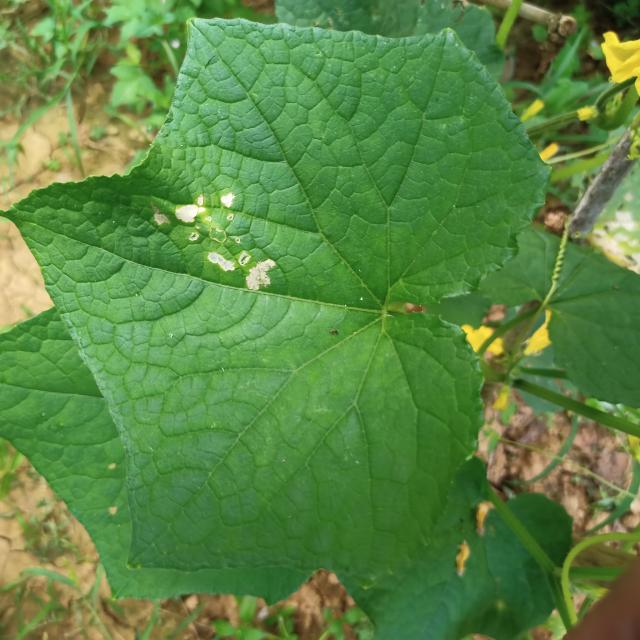disease_cucumber: (150, 188, 284, 294)
